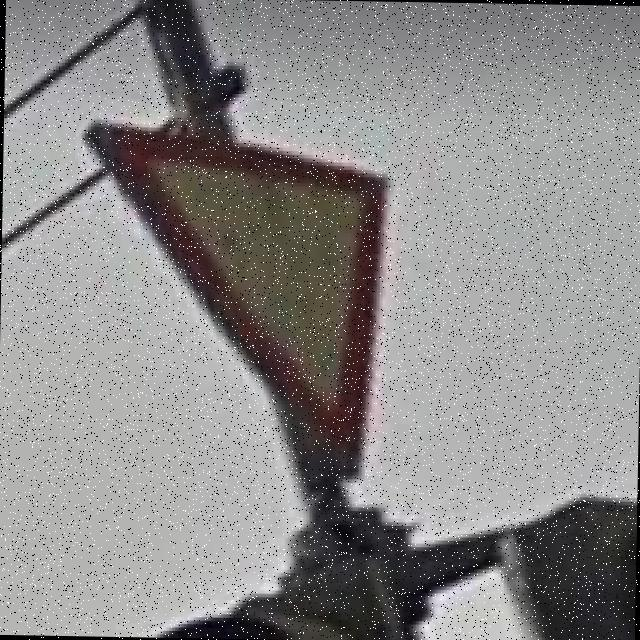Ustap pierwszenstwa: (82, 116, 388, 480)
